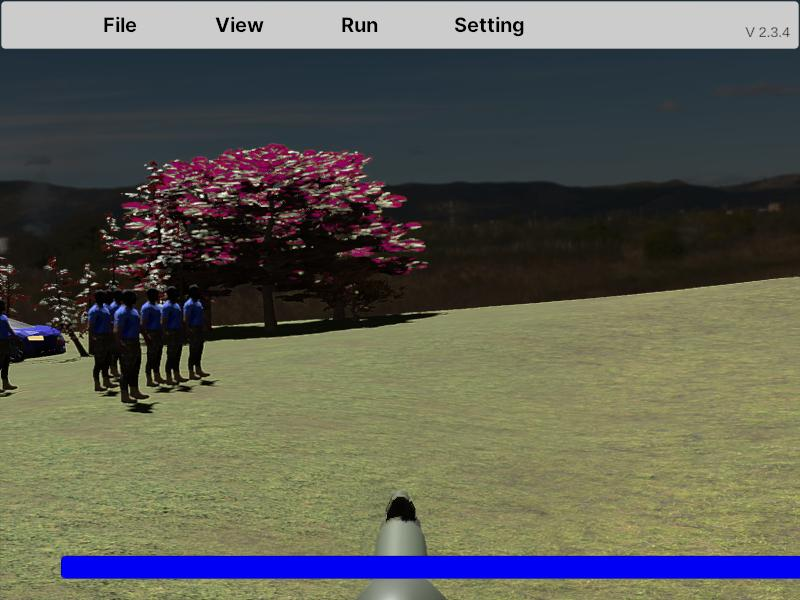Human: (111, 290, 154, 402), (88, 291, 121, 391), (88, 289, 120, 391), (159, 287, 189, 386), (140, 288, 168, 387), (182, 284, 209, 381), (0, 297, 20, 394)
